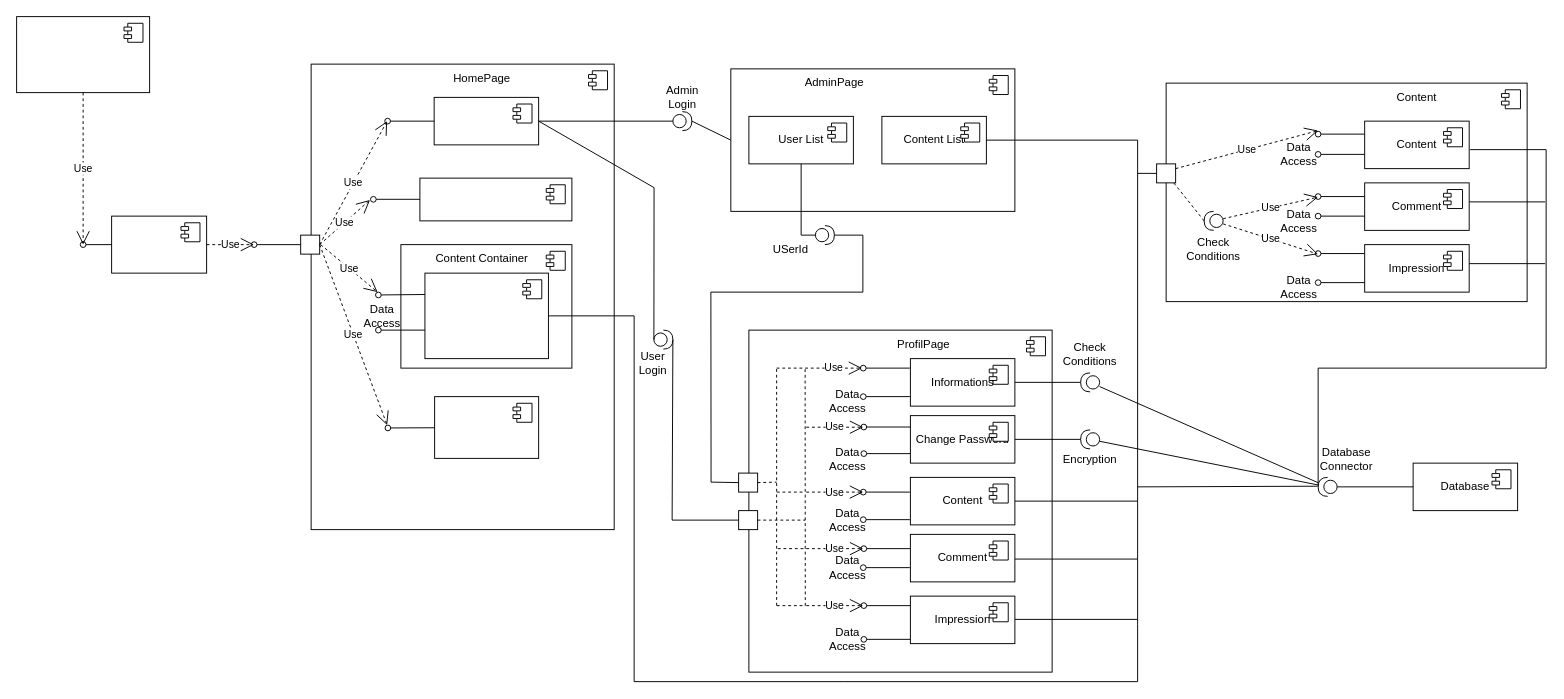
Image size: 1564x699. Some labels were removed from this diagram. The box of each missing label's shape, as (x1, y1, x2, y2) in pixels:
Blogosphere System: (16, 16, 150, 93)
Bottom Bar: (434, 396, 539, 458)
Content Card: (424, 272, 548, 359)
Navigation Bar: (419, 177, 572, 221)
Top Bar: (433, 96, 539, 145)
User: (111, 215, 207, 273)
